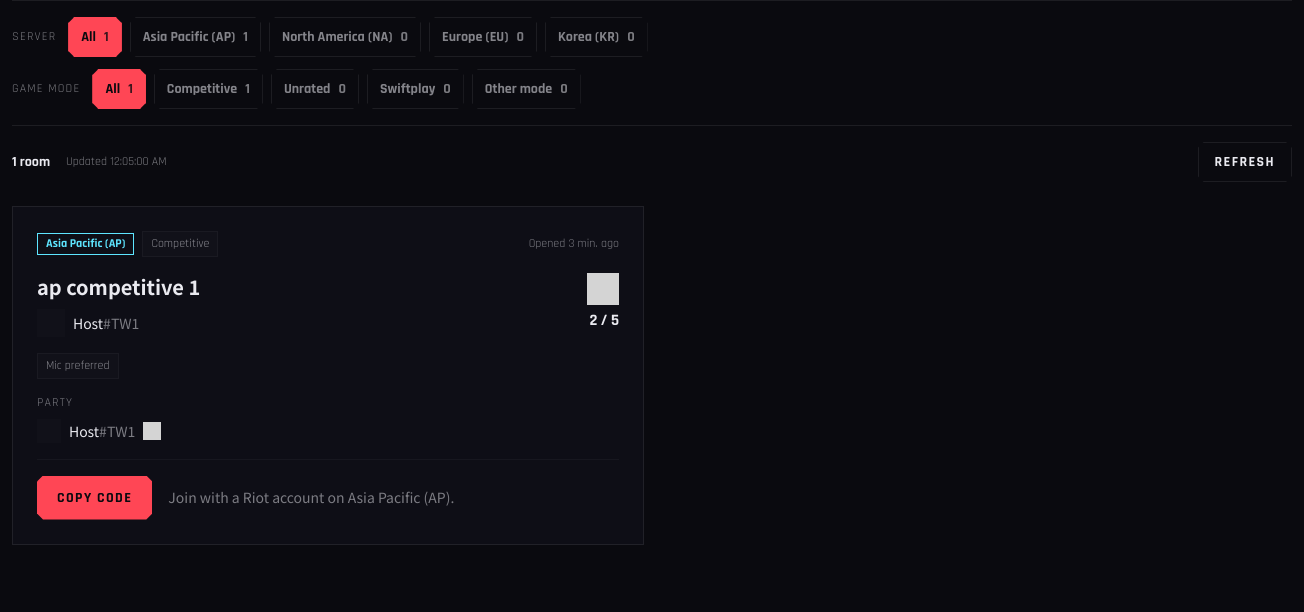
Test: copy code › gets the code on press, shows it and copies it
Click the button "Copy code".
click(95, 498)  # box [37,476,152,520]
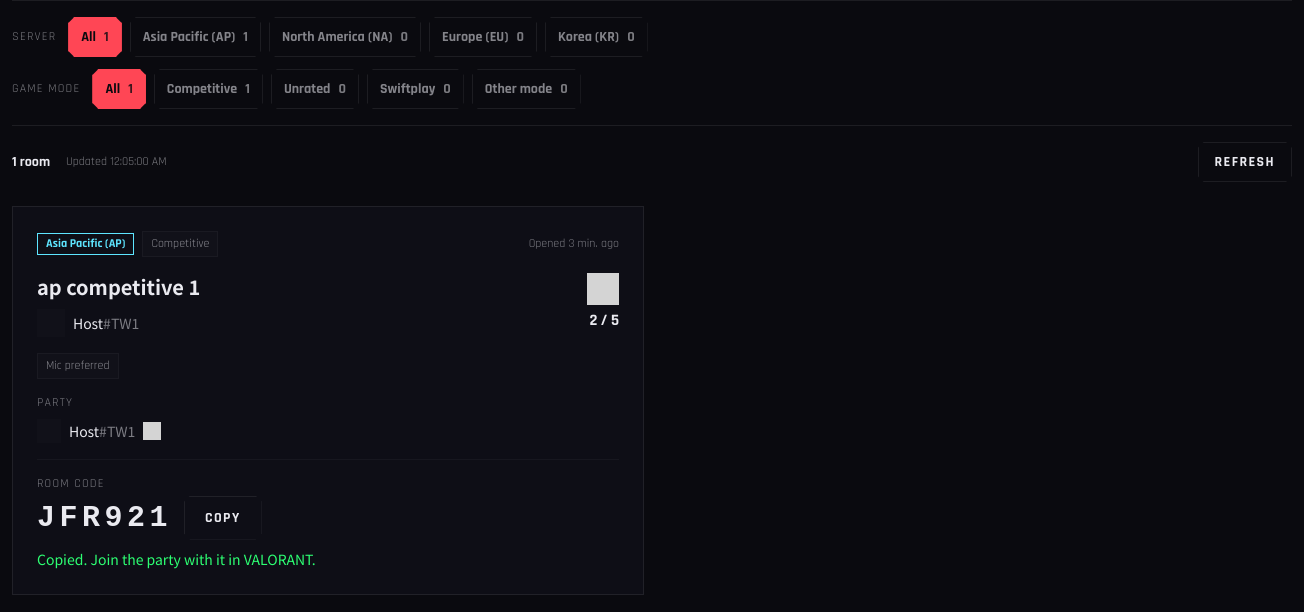
Now the text "JFR921" is shown, box [37,500,172,536]
Now the text "Copied. Join the party with it in VALORANT." is shown, box [37,548,316,568]
